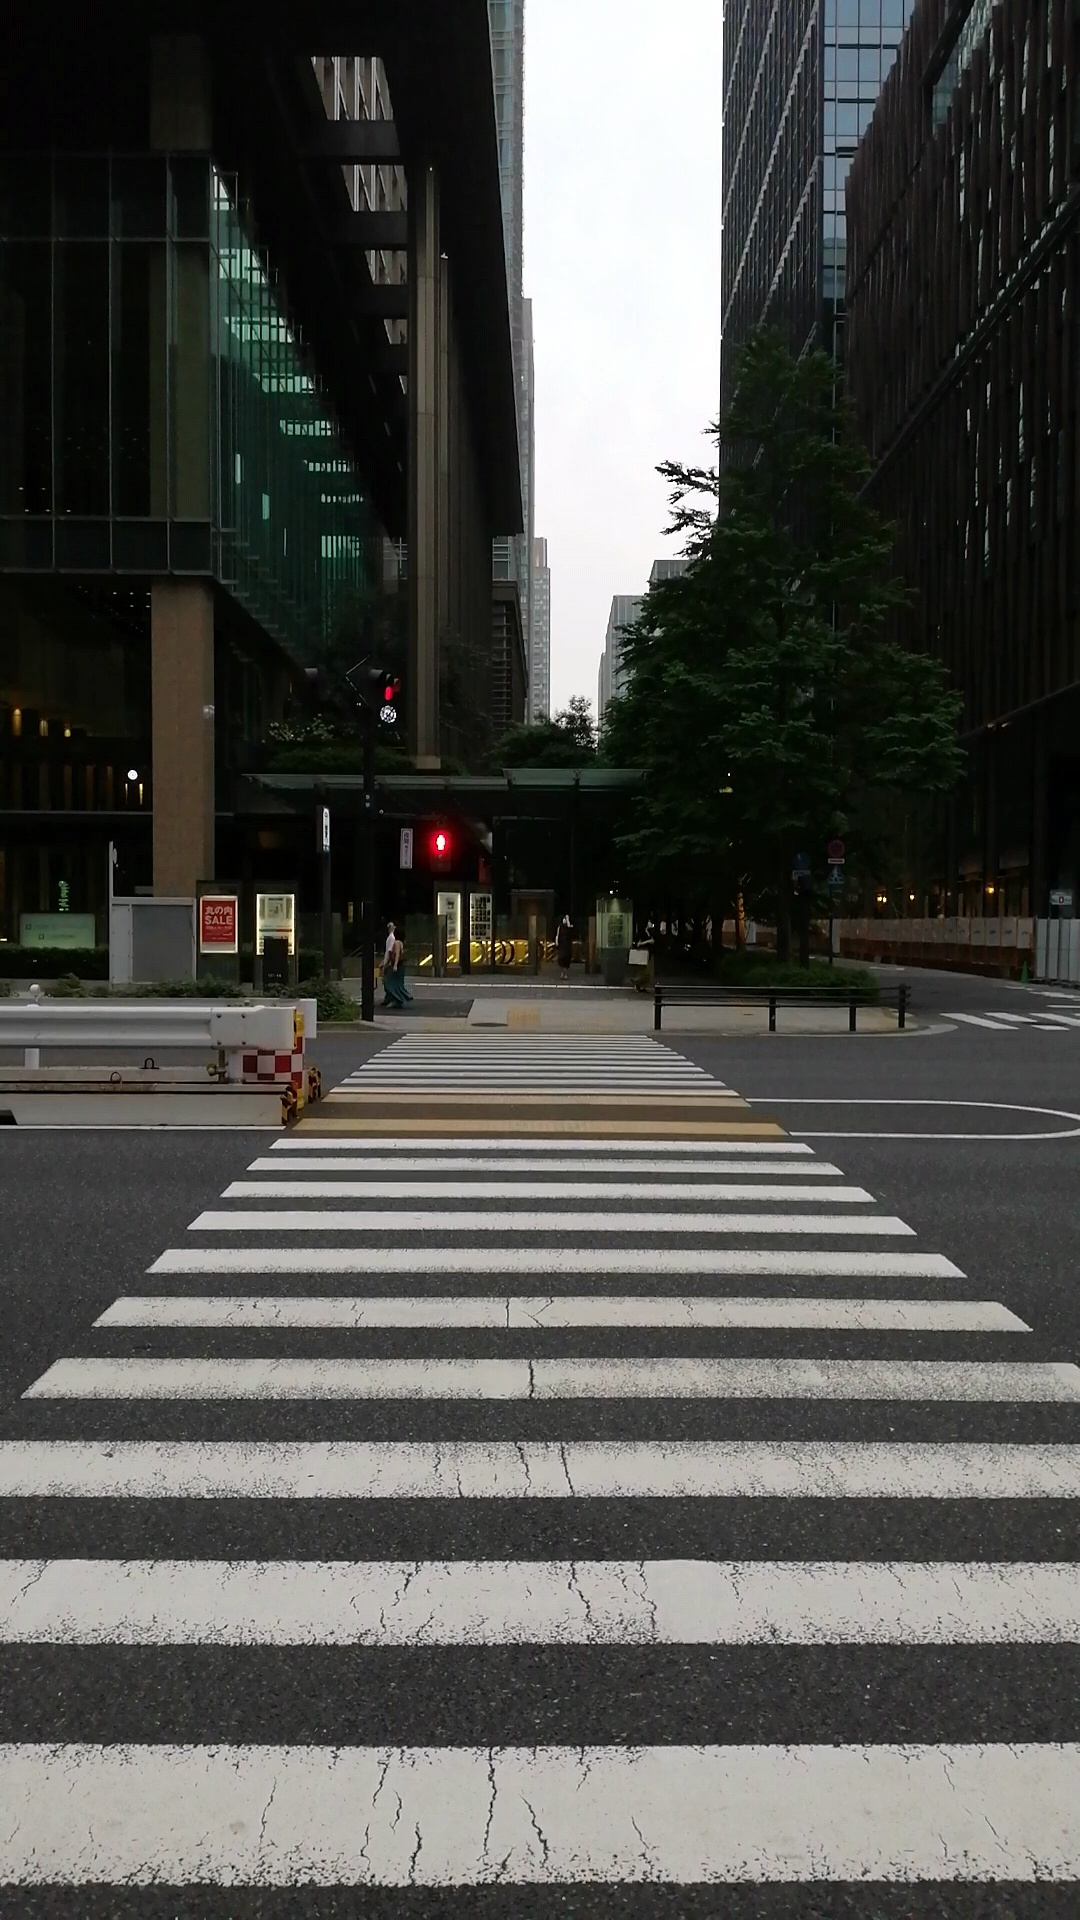red: (423, 822, 455, 881)
